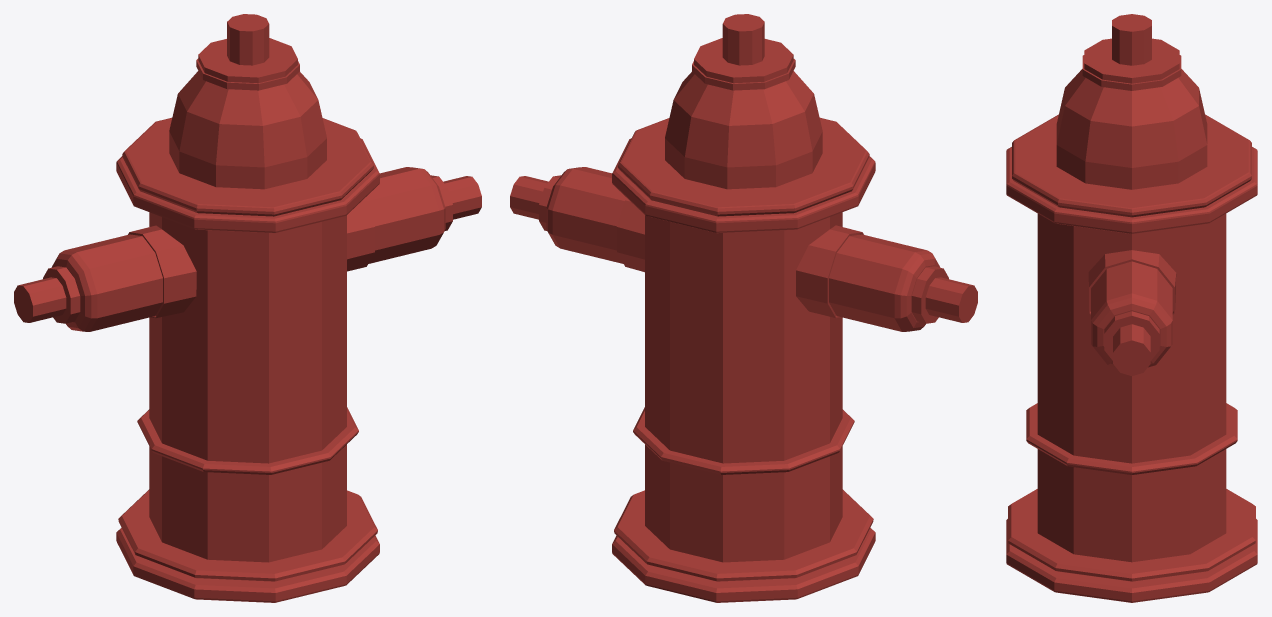
File: Hidrant.fbx
The picture shows the model from 3 angles, left to right: view 1: azimuth 30°, elevation 25°; view 2: azimuth 150°, elevation 25°; view 3: azimuth 270°, elevation 25°; orthographic projection.
Visible parts, largest first — view 1: Hidrant; view 2: Hidrant; view 3: Hidrant.
Part boxes in pixels (x1,y1,x2,y2): Hidrant: (14, 14, 481, 602); Hidrant: (510, 14, 977, 602); Hidrant: (1006, 14, 1257, 602).
Size of the model in its own units: 82.72 by 92.78 by 40.2.
